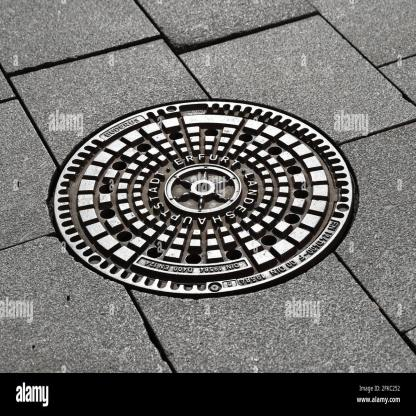open drainage-not overflowing-: (52, 94, 355, 298)
